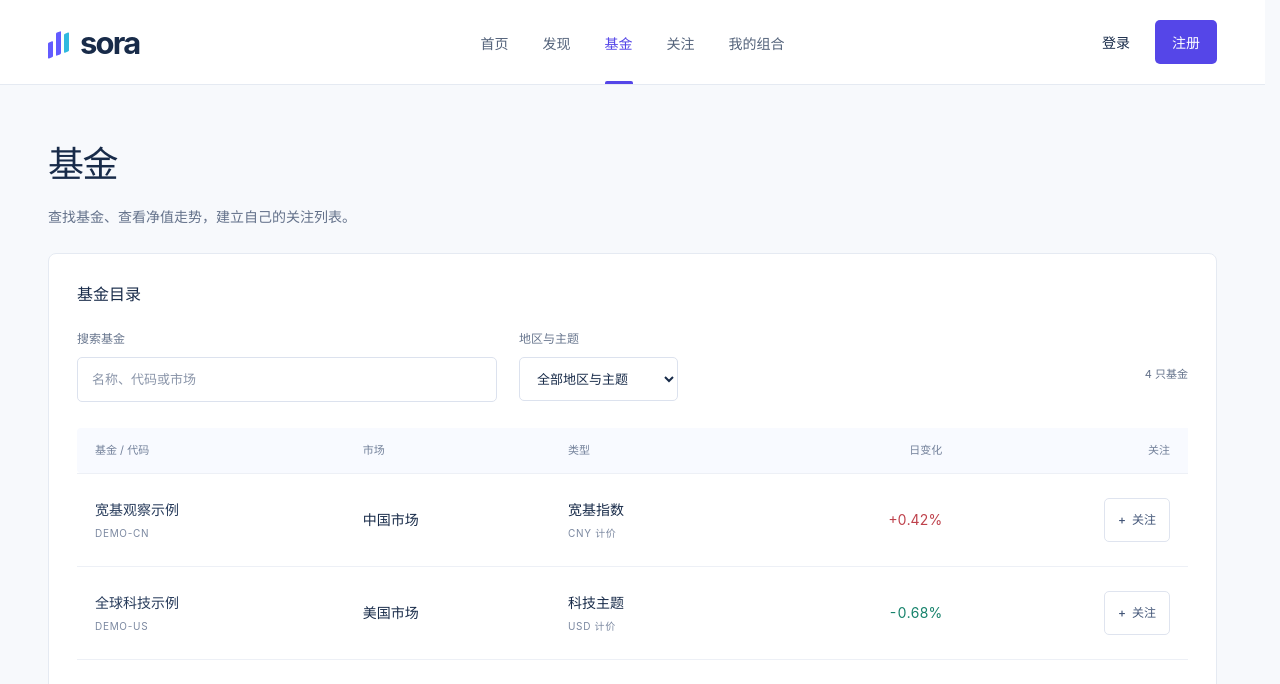
Scenario: M0 routes › filters funds and shows an empty state
In the search field labelled "搜索基金": (287, 380) x1=77 y1=357 x2=497 y2=402, type "DEMO-KR"
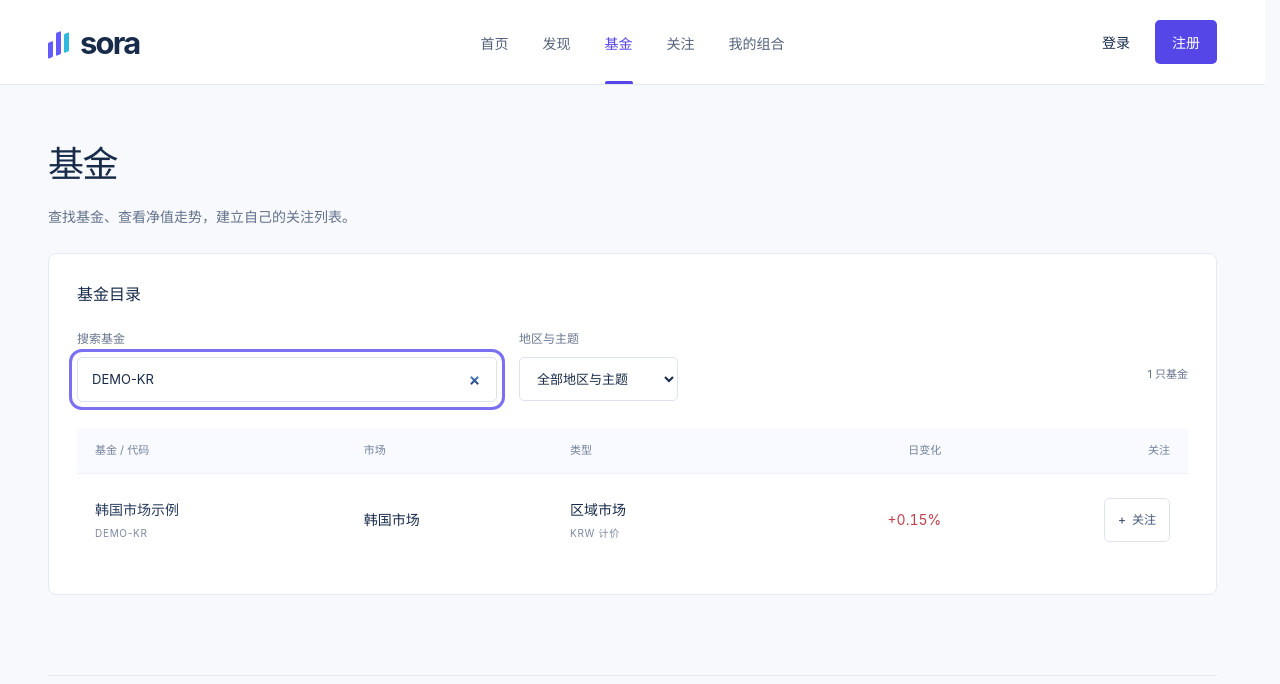
Expected: the link "韩国市场示例" is shown, x1=95 y1=501 x2=179 y2=518
Expected: the link "宽基观察示例" is gone
Replace the text in the search field labelled "搜索基金" with "不存在": (287, 380) x1=77 y1=357 x2=497 y2=402
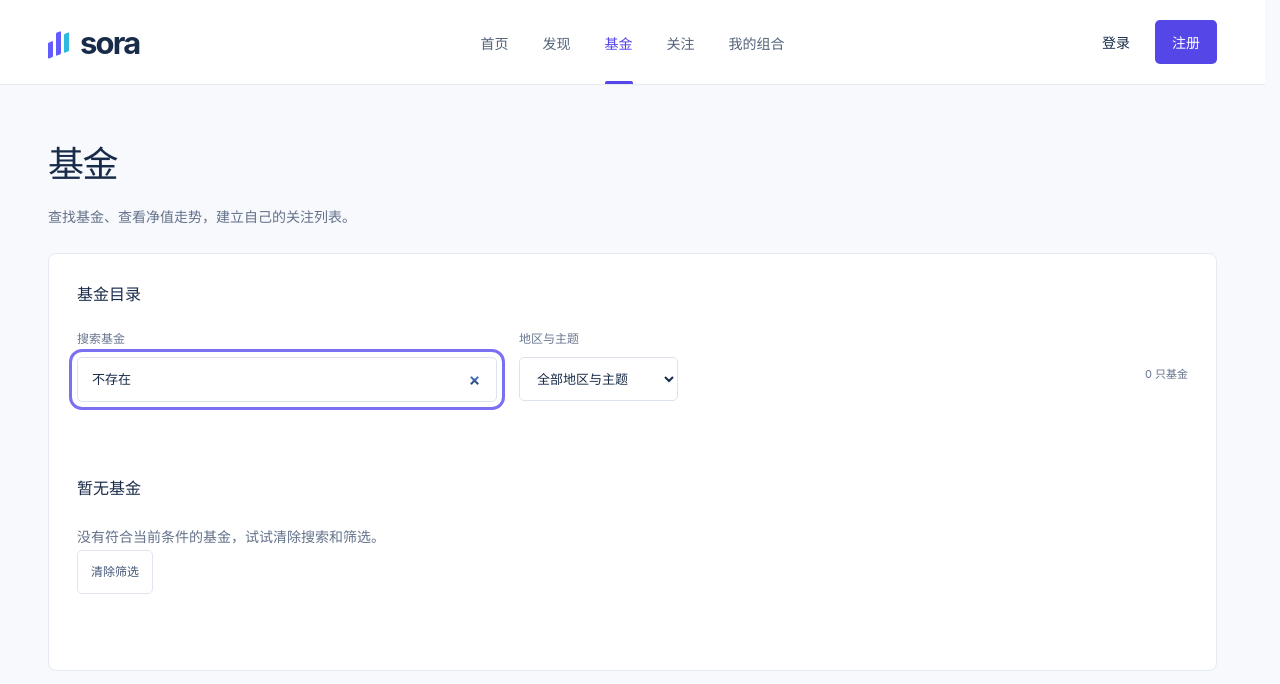
Expected: the heading "暂无基金" is shown, x1=77 y1=478 x2=141 y2=498
